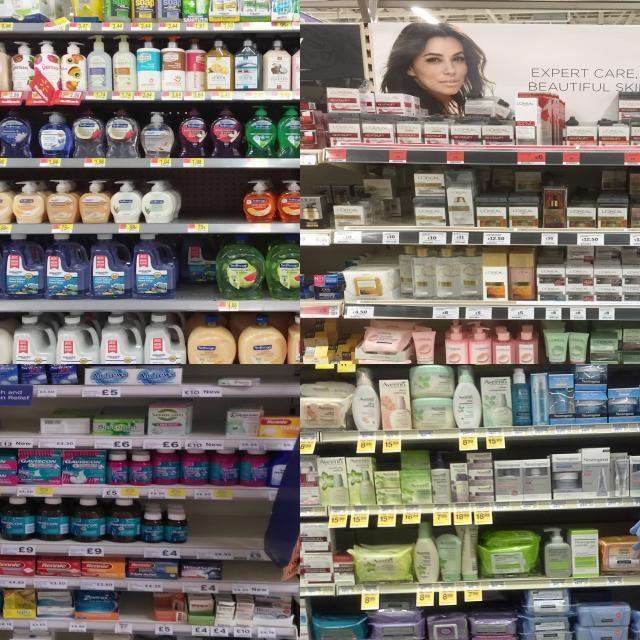empty: (183, 170, 241, 232), (187, 502, 239, 558), (1, 406, 36, 448), (227, 562, 271, 594), (196, 399, 224, 449), (122, 592, 152, 634), (262, 364, 300, 397), (244, 502, 264, 560), (181, 364, 213, 396)
